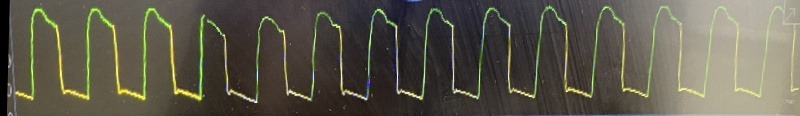normal_pressure: (13, 0, 799, 113)
